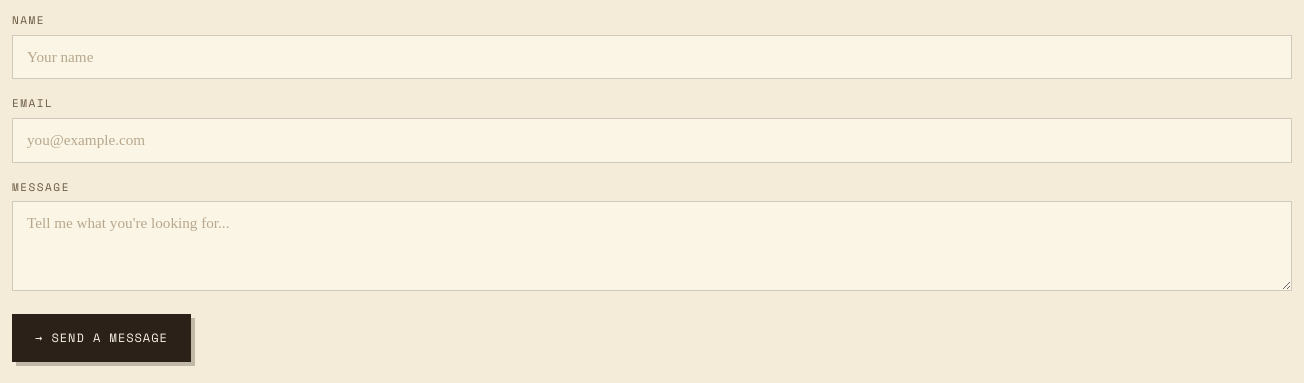
Test case: InterestForm › submission › shows success state after successful submission
Type "Jane Doe" into the field labelled "Name" at point(652, 57), box left=12, top=34, right=1292, bottom=79
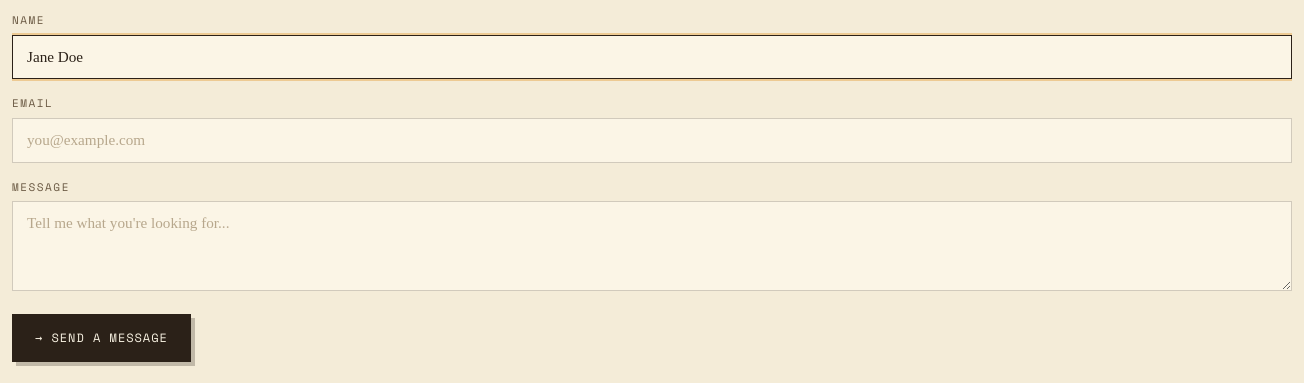
Type "jane@example.com" into the field labelled "Email" at point(652, 140), box left=12, top=118, right=1292, bottom=163
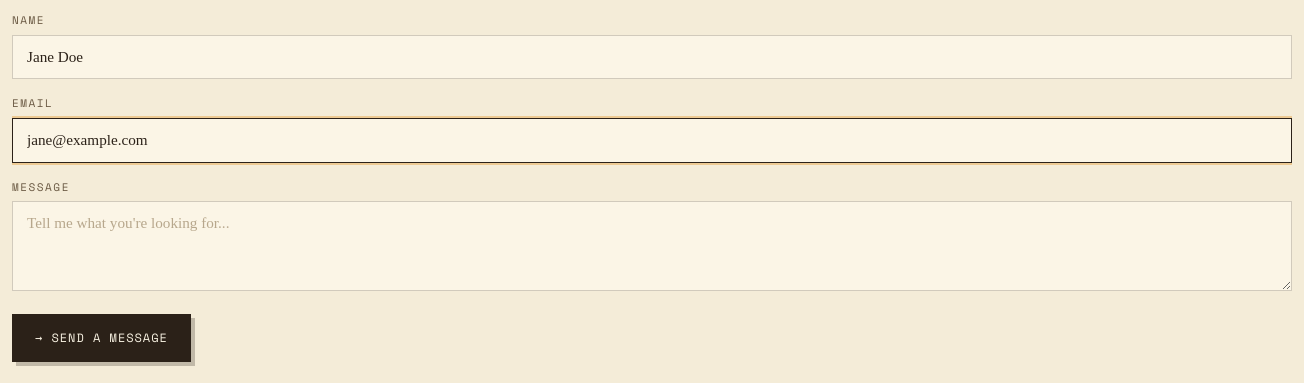
Type "Hello there!" into the text box labelled "Message" at point(652, 246), box left=12, top=201, right=1292, bottom=291
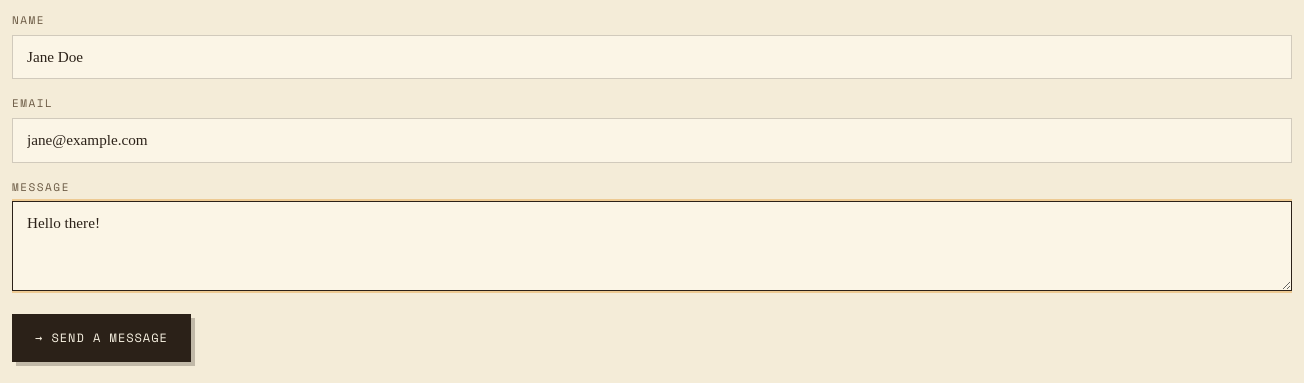
Click the button "→ SEND A MESSAGE" at point(101, 338), box left=12, top=314, right=191, bottom=362
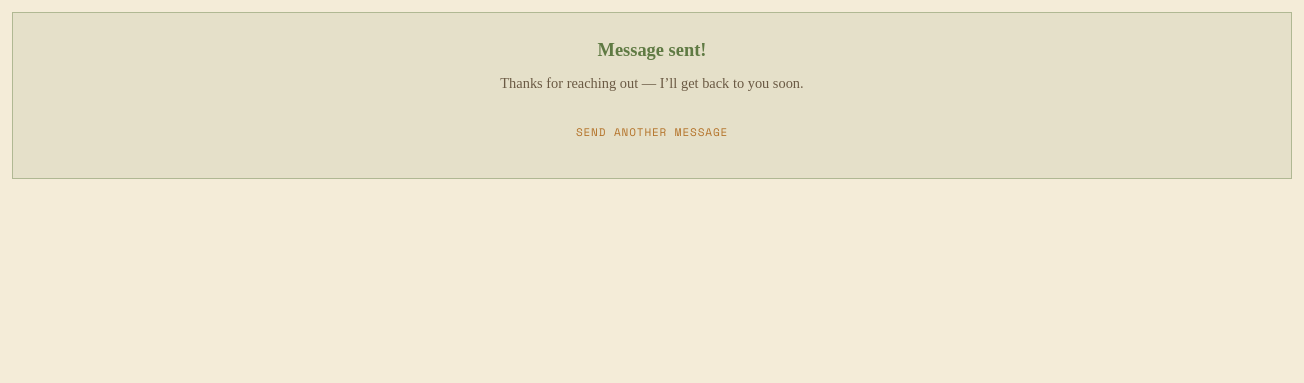
Result: the text "Message sent!" is shown at left=598, top=40, right=706, bottom=60
